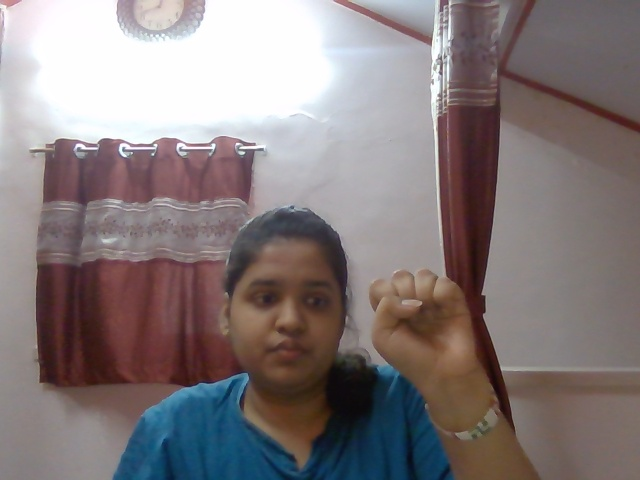s: (350, 267, 499, 382)
